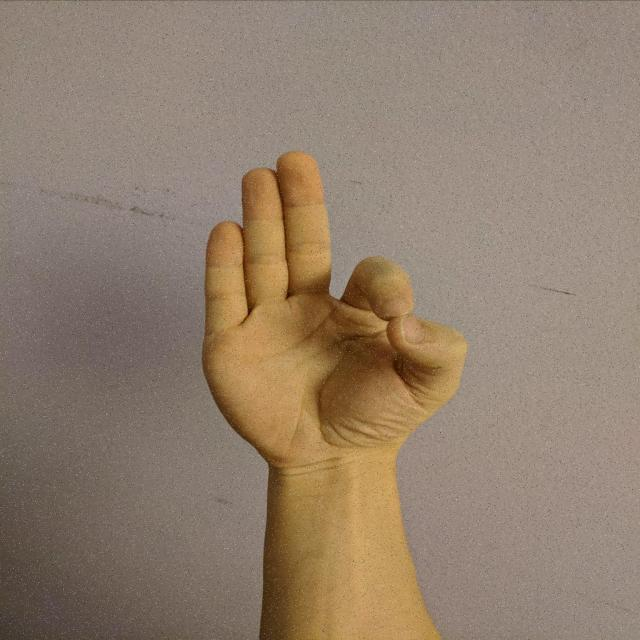F: (196, 145, 477, 475)
